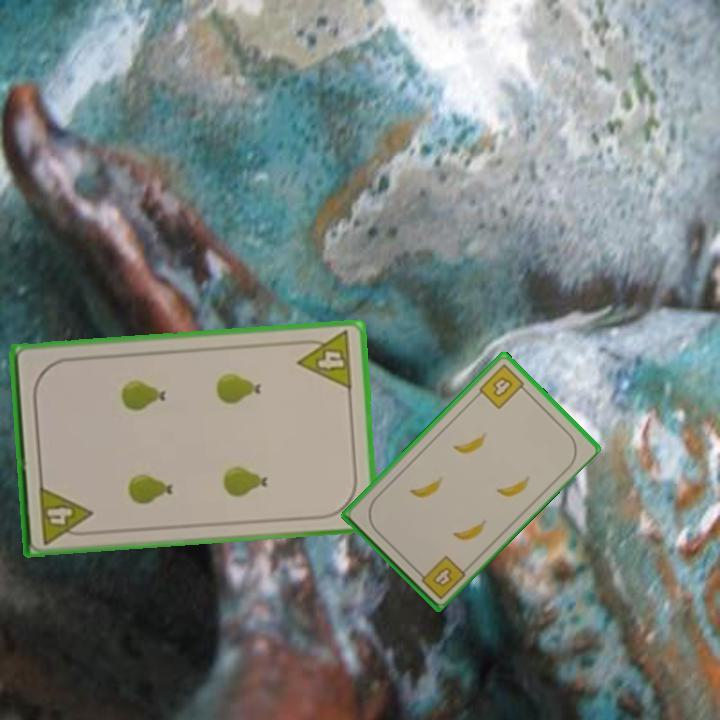4b: (475, 360, 530, 412), (412, 551, 468, 602)
4p: (293, 328, 355, 393), (35, 482, 95, 547)
